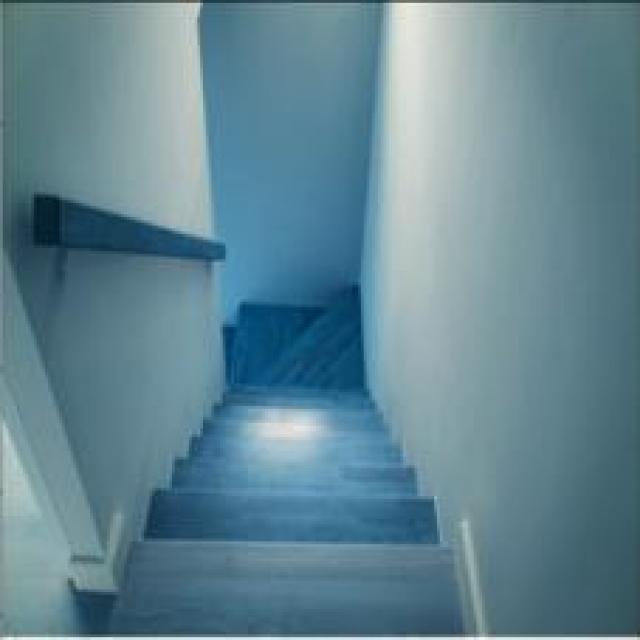downstair: (139, 385, 444, 571)
